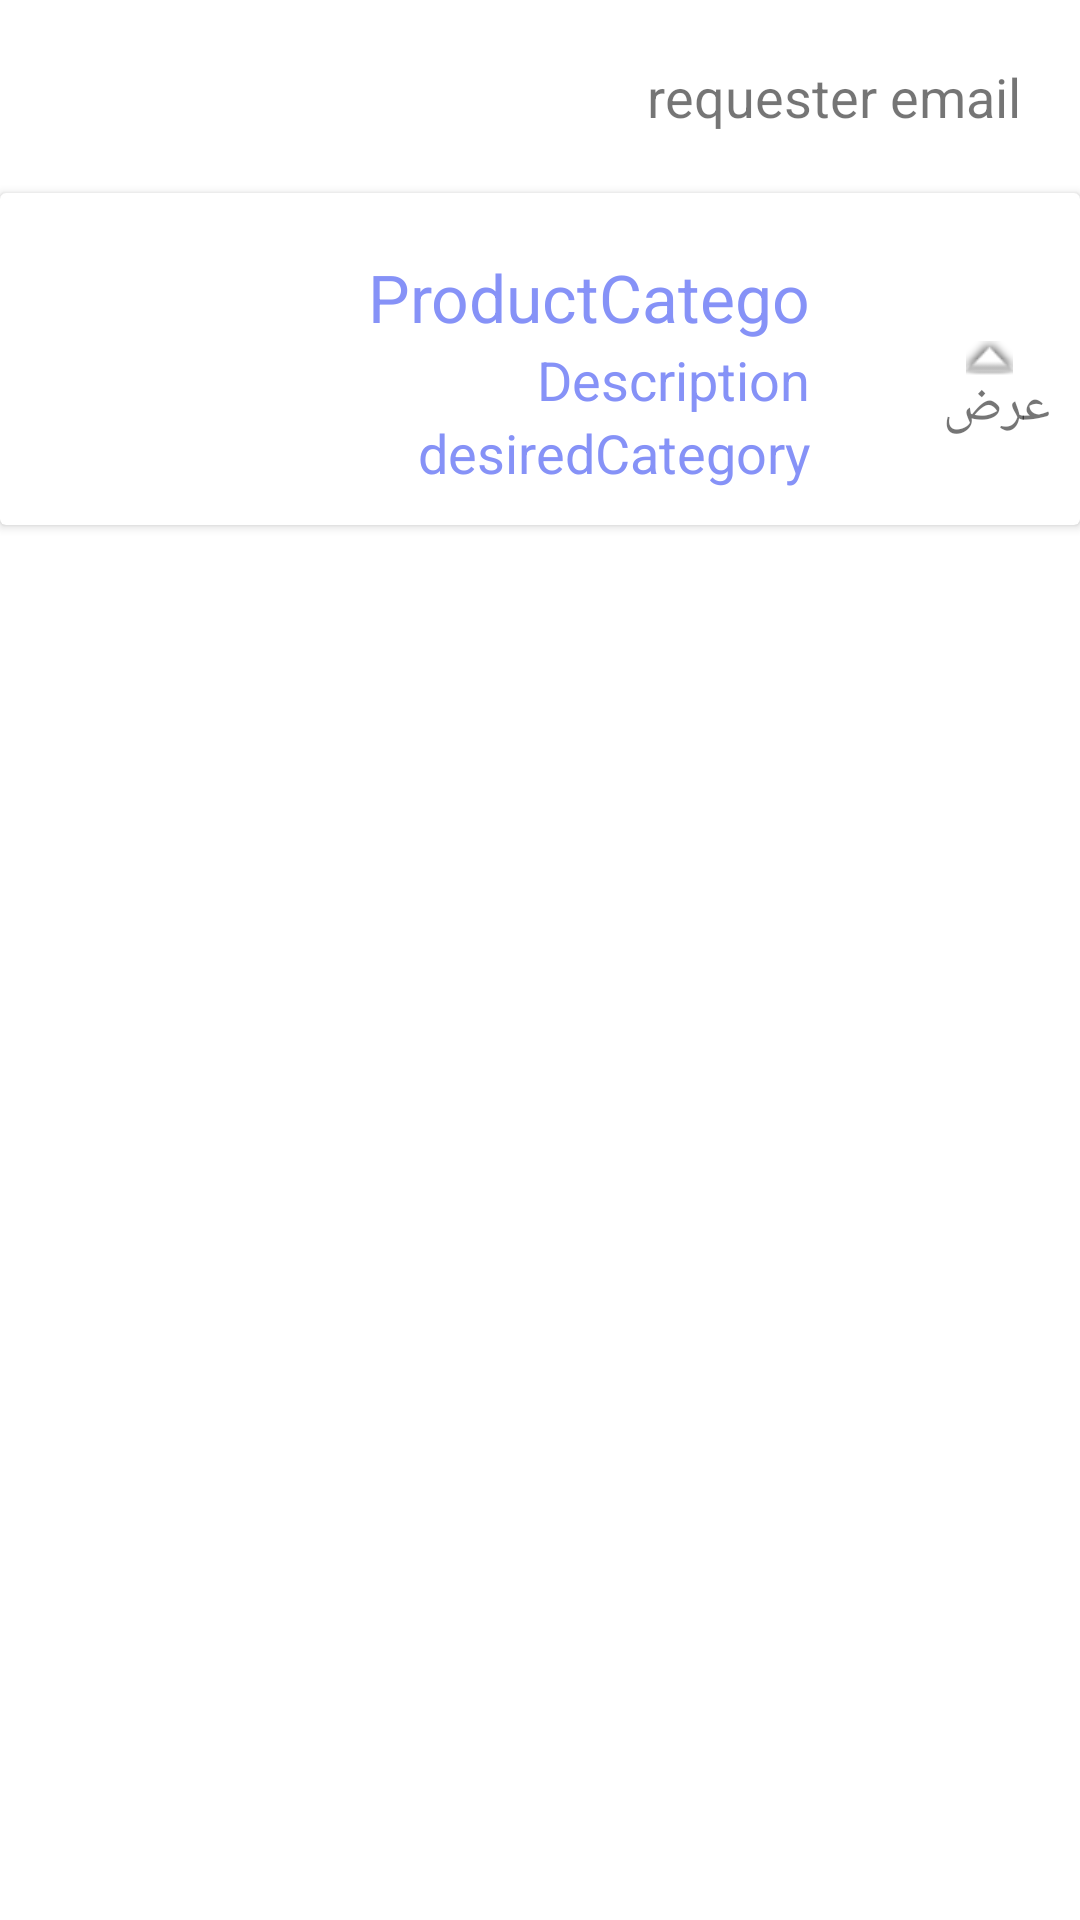

Named icons in this screenshot (1080×1920) and their bounding boxes, (x1, y1, x2, y2):
arrow up float: (966, 342, 1013, 374)
